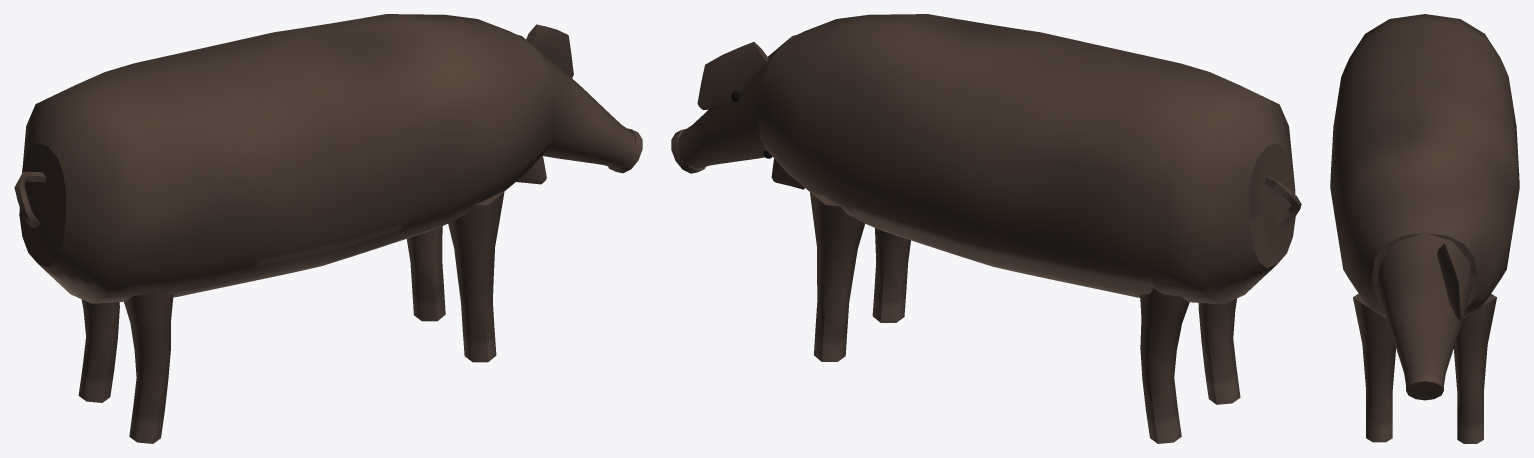
Rendered from tpl_life_pigs_1175_pig_old_stand.glb.
The picture shows the model from 3 angles, left to right: view 1: azimuth 30°, elevation 25°; view 2: azimuth 150°, elevation 25°; view 3: azimuth 270°, elevation 25°; orthographic projection. The views are drawn at different scales.
Visible parts, largest first — view 1: tpl_life_pigs_1175_pig_old_stand; view 2: tpl_life_pigs_1175_pig_old_stand; view 3: tpl_life_pigs_1175_pig_old_stand.
Part boxes in pixels (x1,y1,x2,y2): tpl_life_pigs_1175_pig_old_stand: (14, 14, 642, 443); tpl_life_pigs_1175_pig_old_stand: (671, 14, 1301, 443); tpl_life_pigs_1175_pig_old_stand: (1330, 14, 1519, 443).
Bounding box in the file's own units: 1.57 × 0.8089 × 0.4992.
2 materials, 1 textured.
